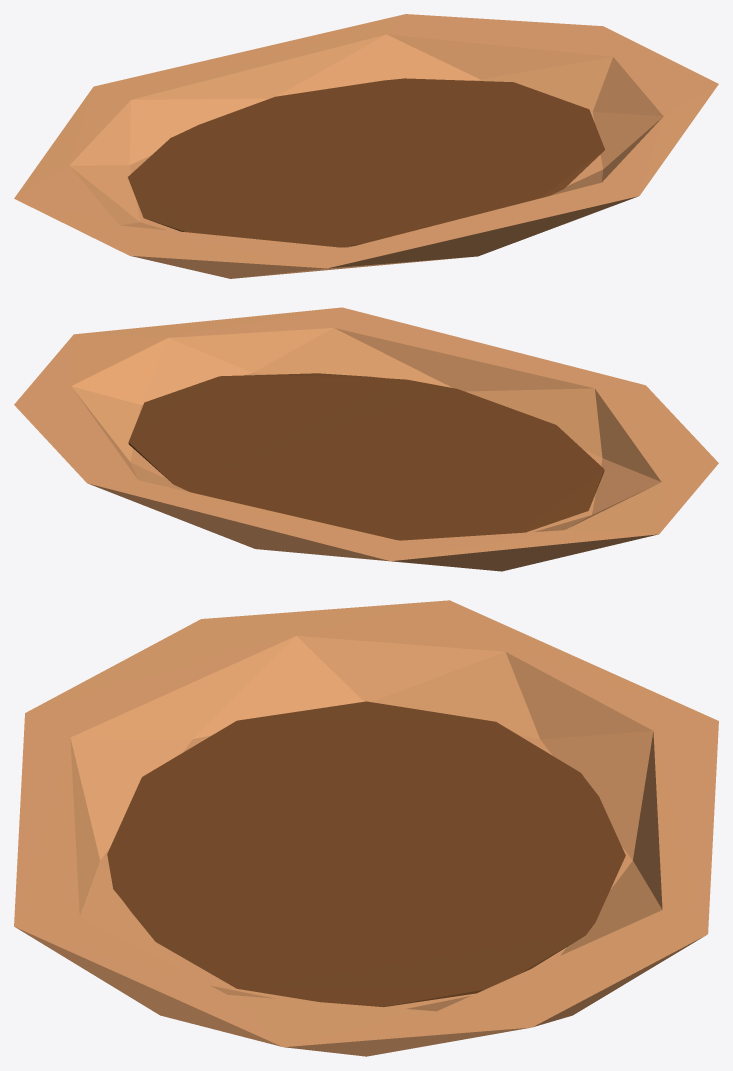
Rendered from mud_wallow.fbx.
The picture shows the model from 3 angles, top to bottom: view 1: azimuth 30°, elevation 25°; view 2: azimuth 150°, elevation 25°; view 3: azimuth 270°, elevation 25°; orthographic projection. The views are drawn at different scales.
Visible parts, largest first — view 1: mud_wallow; view 2: mud_wallow; view 3: mud_wallow.
Part boxes in pixels (bbox=[...]): mud_wallow: bbox=[14, 14, 718, 278]; mud_wallow: bbox=[14, 307, 718, 571]; mud_wallow: bbox=[14, 600, 718, 1056].
Bounding box in the file's own units: 6 × 0.3 × 4.
